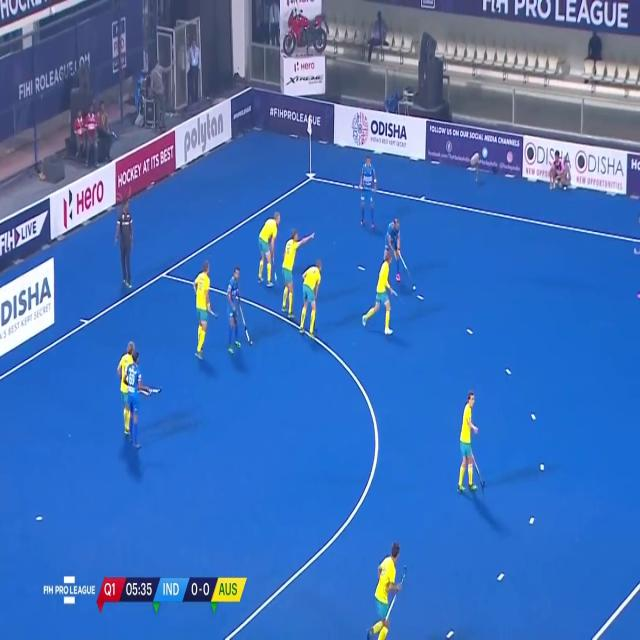ball: (411, 281, 418, 296)
